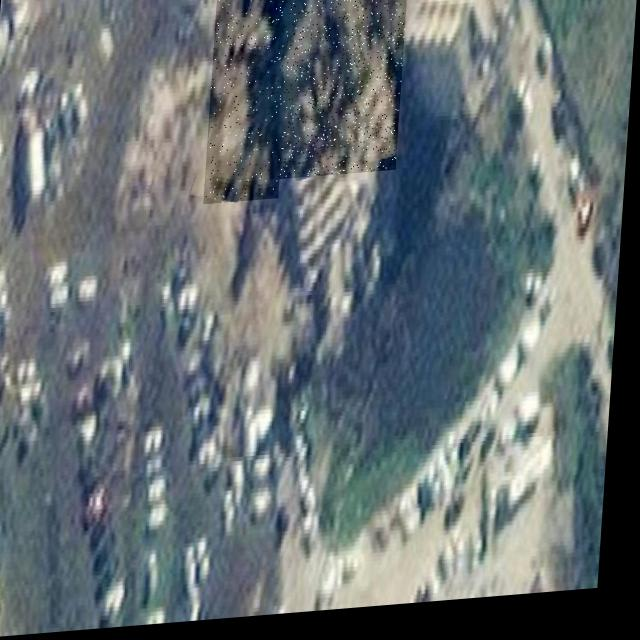Rubble: (271, 0, 408, 185), (205, 0, 292, 208)
